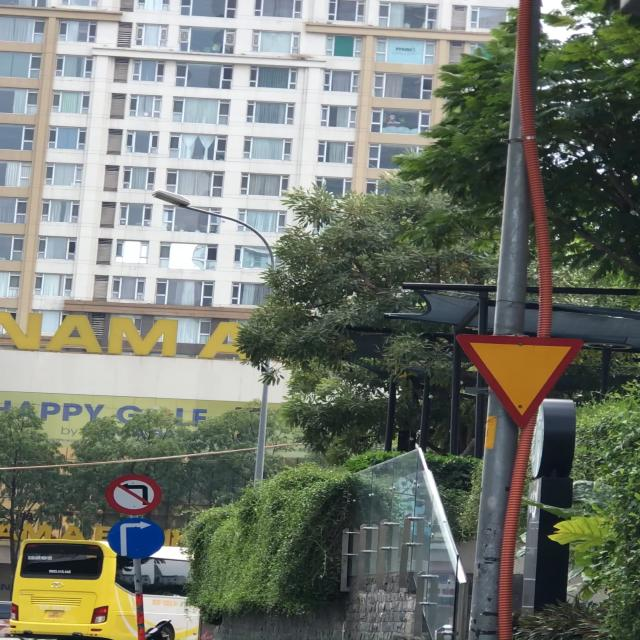Bien bao cam re trai: (103, 470, 163, 515)
Bien bao giao nhau voi duong uu tien: (448, 328, 584, 434)
Bien bao huong di phai theo: (106, 517, 167, 562)
